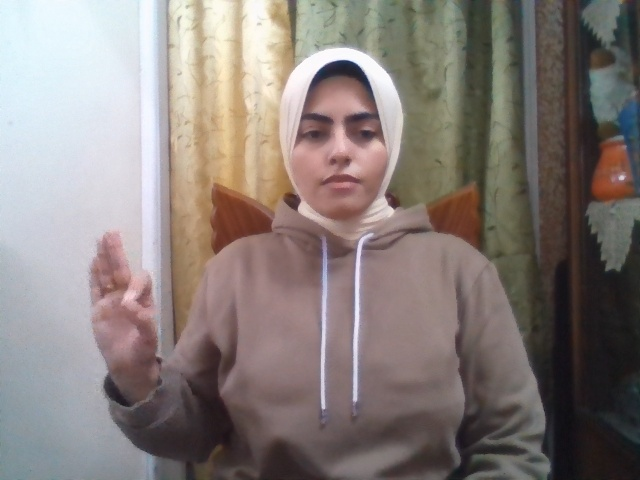F: (88, 228, 159, 376)
